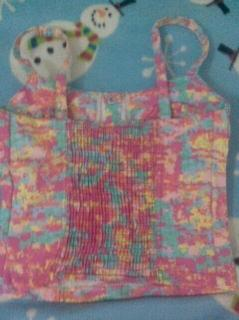sling dress: (0, 16, 238, 303)
